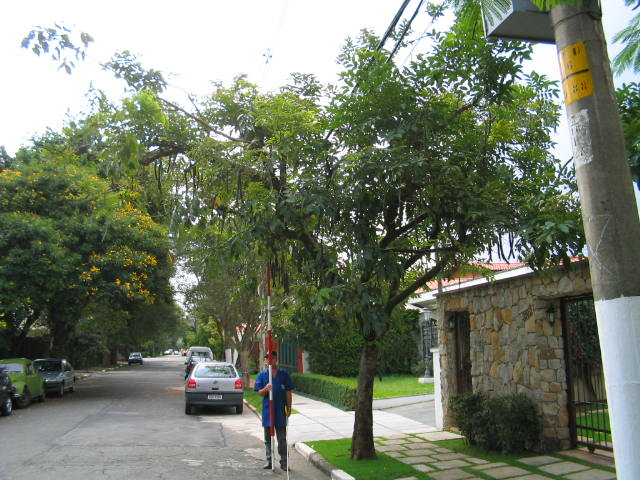crown: (141, 31, 567, 336)
stem: (345, 338, 389, 461)
stick: (259, 261, 279, 472)
tree: (138, 29, 568, 462)
